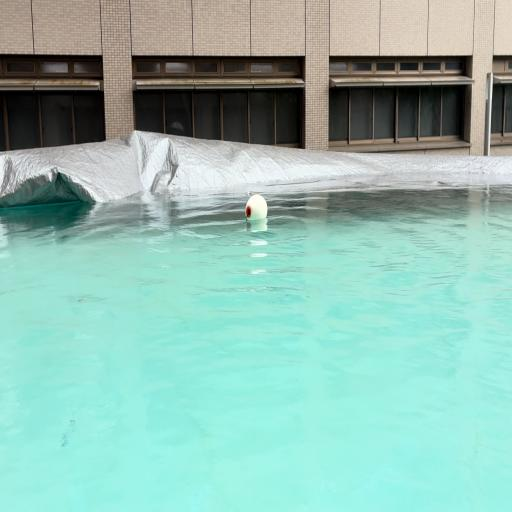white buoy: (245, 194, 268, 220)
